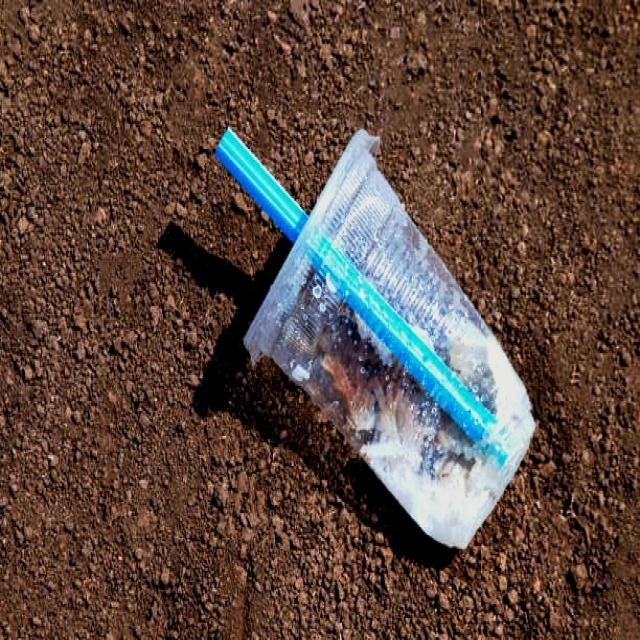plastic: (216, 123, 544, 560)
